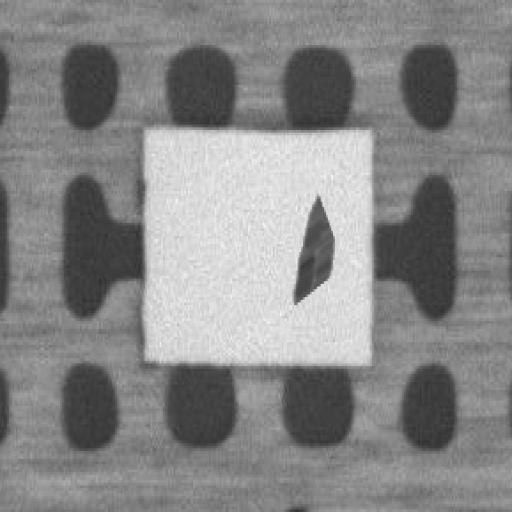DIE_INK: (288, 188, 336, 297)
